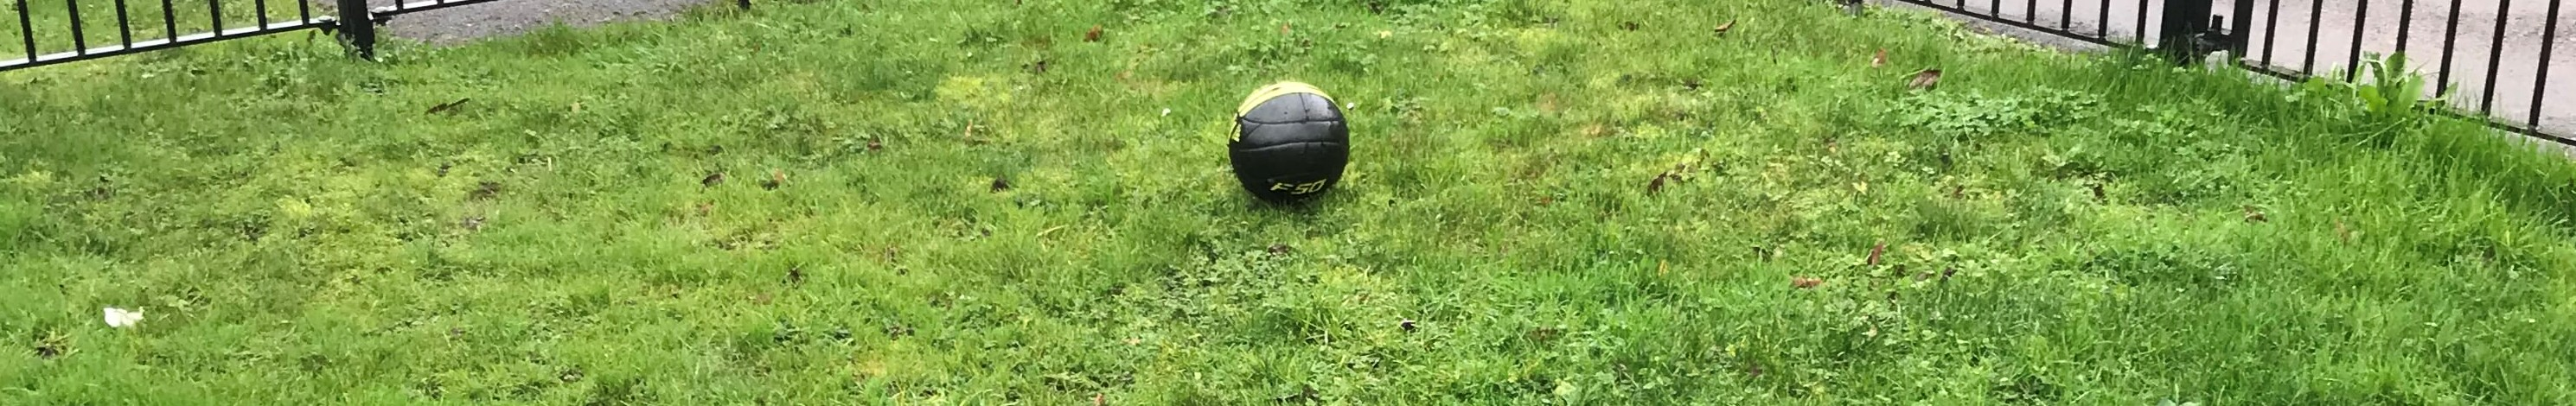football: (1226, 71, 1347, 210)
